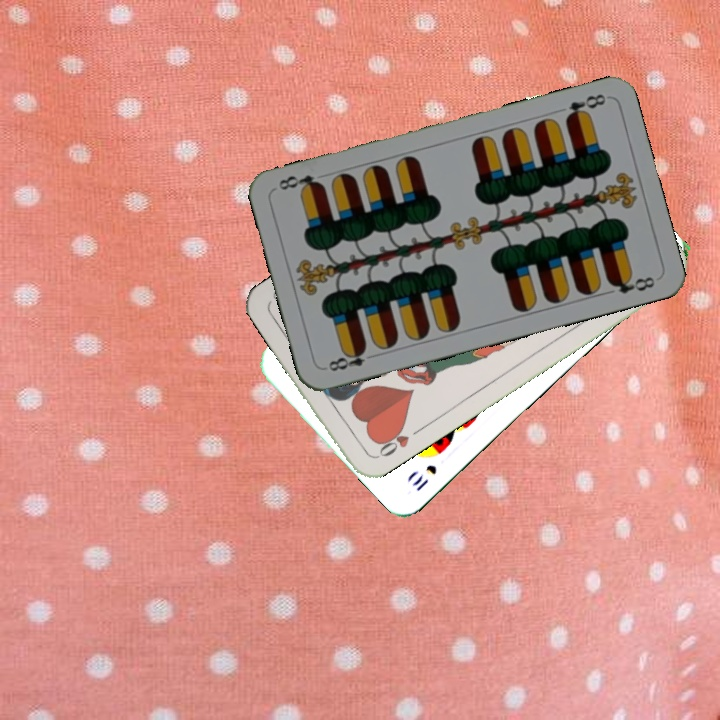E8: (324, 343, 380, 374), (561, 90, 608, 124)
HO: (369, 420, 423, 462)
S10: (408, 460, 439, 494)
